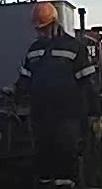helmet: (30, 1, 58, 28)
vest: (23, 36, 90, 111)
